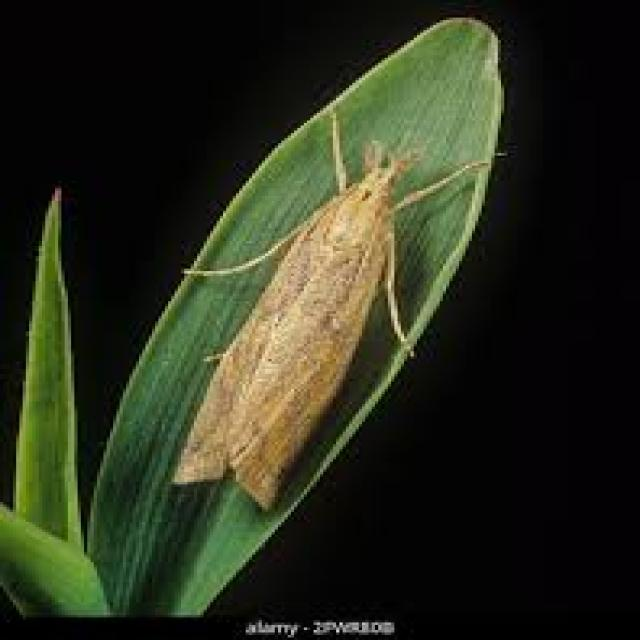yellow-stem-borer: (143, 80, 512, 535)
